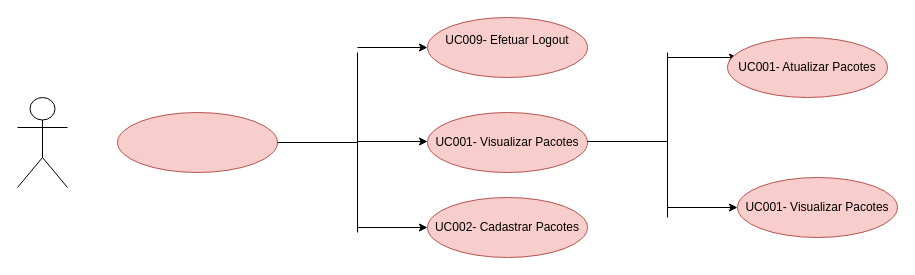
Image size: 915x275. Some labels were removed from this diagram. The centre of each missing label's shape, as x and y in pixels:
"Adm" belongs at point (42, 142).
"UC008 - Efetuar Login" belongs at point (197, 142).
